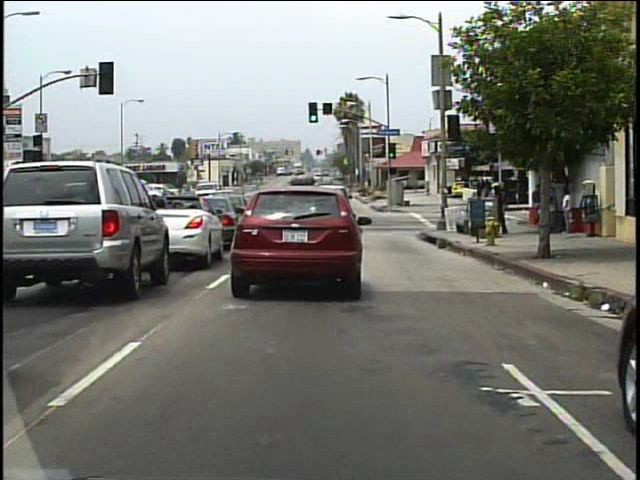person: (560, 186, 575, 234), (499, 182, 512, 235), (530, 183, 545, 224), (552, 182, 553, 236)
